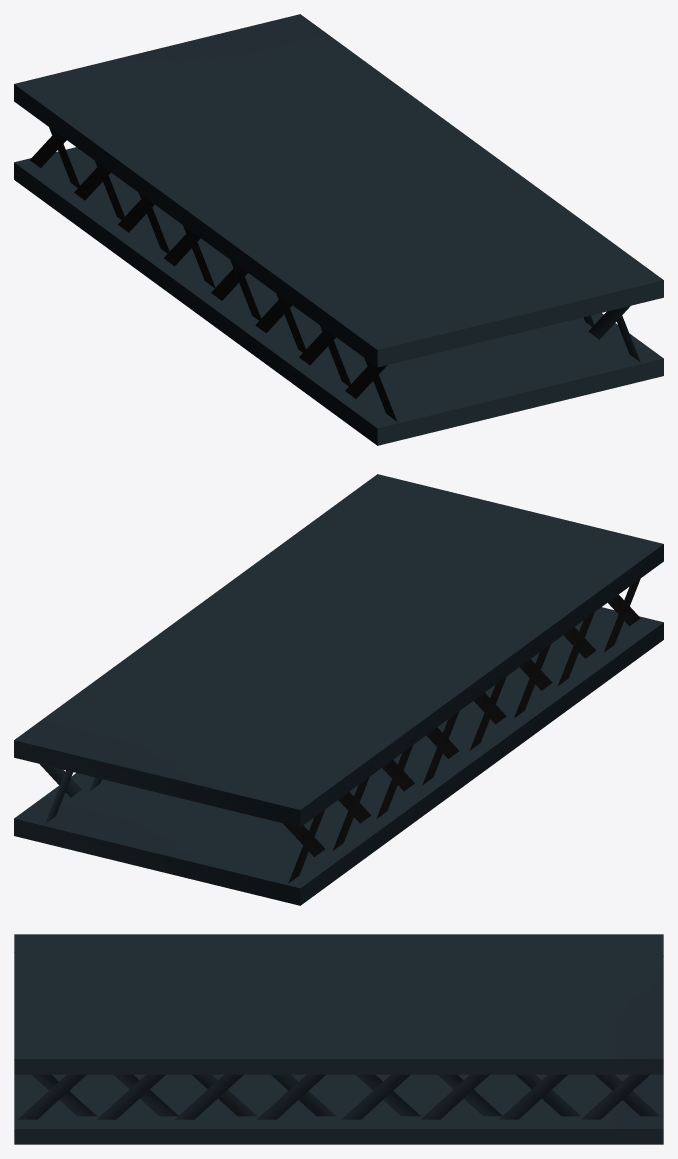
File: F_Theatre_Platform_2.fbx
3 renders of one model, top to bottom at view 1: azimuth 30°, elevation 25°; view 2: azimuth 150°, elevation 25°; view 3: azimuth 270°, elevation 25°, orthographic. The views are drawn at different scales.
Visible parts, largest first — view 1: F_Theatre_Platform_2; view 2: F_Theatre_Platform_2; view 3: F_Theatre_Platform_2.
Boxes of the visible parts, x1=… form: F_Theatre_Platform_2: x1=14, y1=14, x2=663, y2=445; F_Theatre_Platform_2: x1=14, y1=474, x2=663, y2=905; F_Theatre_Platform_2: x1=14, y1=934, x2=663, y2=1144.
Size of the model in its own units: 8.02 by 1.17 by 3.65.
Materials: 1 (1 with a texture image).
